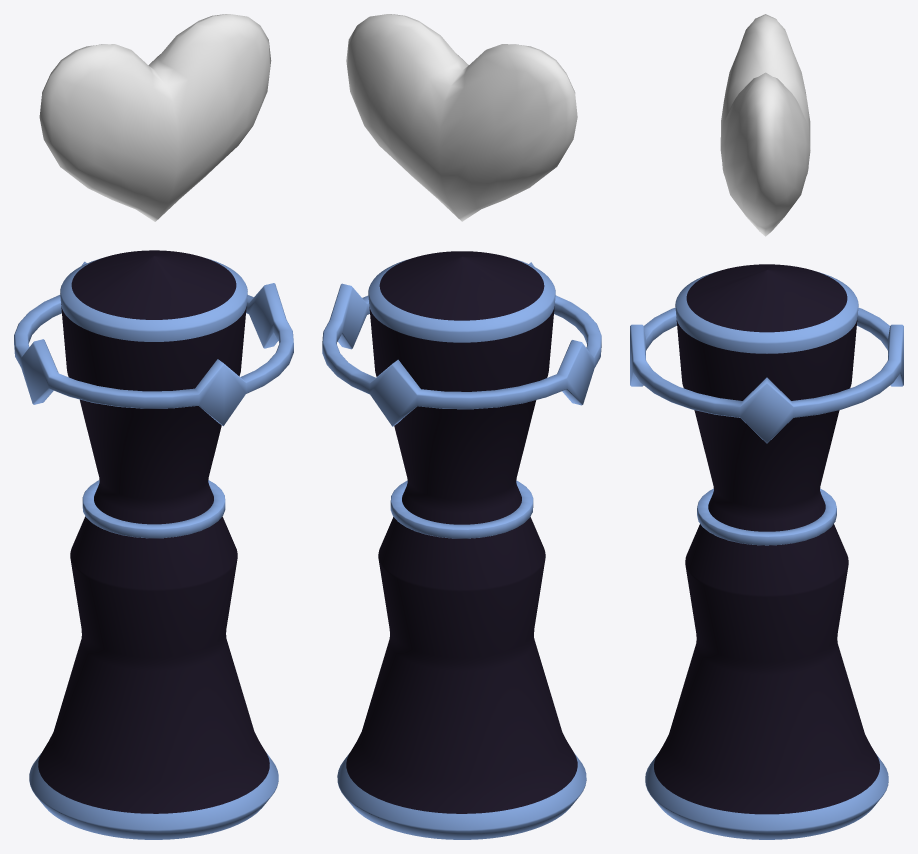
File: heart.fbx
3 renders of one model, left to right at view 1: azimuth 30°, elevation 25°; view 2: azimuth 150°, elevation 25°; view 3: azimuth 270°, elevation 25°, orthographic. The views are drawn at different scales.
Parts seen in each view (by area): view 1: HeartBase, HeartHeart, HeartRing, HeartRingSmall; view 2: HeartBase, HeartHeart, HeartRing, HeartRingSmall; view 3: HeartBase, HeartHeart, HeartRing, HeartRingSmall.
Part boxes in pixels (x1,y1,x2,y2): HeartBase: (29,250,278,839); HeartHeart: (39,14,271,221); HeartRing: (14,261,293,426); HeartRingSmall: (82,480,225,538); HeartBase: (337,251,586,839); HeartHeart: (346,14,577,221); HeartRing: (322,262,601,426); HeartRingSmall: (390,480,533,538); HeartBase: (645,264,888,839); HeartHeart: (720,14,810,236); HeartRing: (630,307,903,443); HeartRingSmall: (697,488,836,545).
Bounding box in the file's own units: 193 × 578 × 193.
